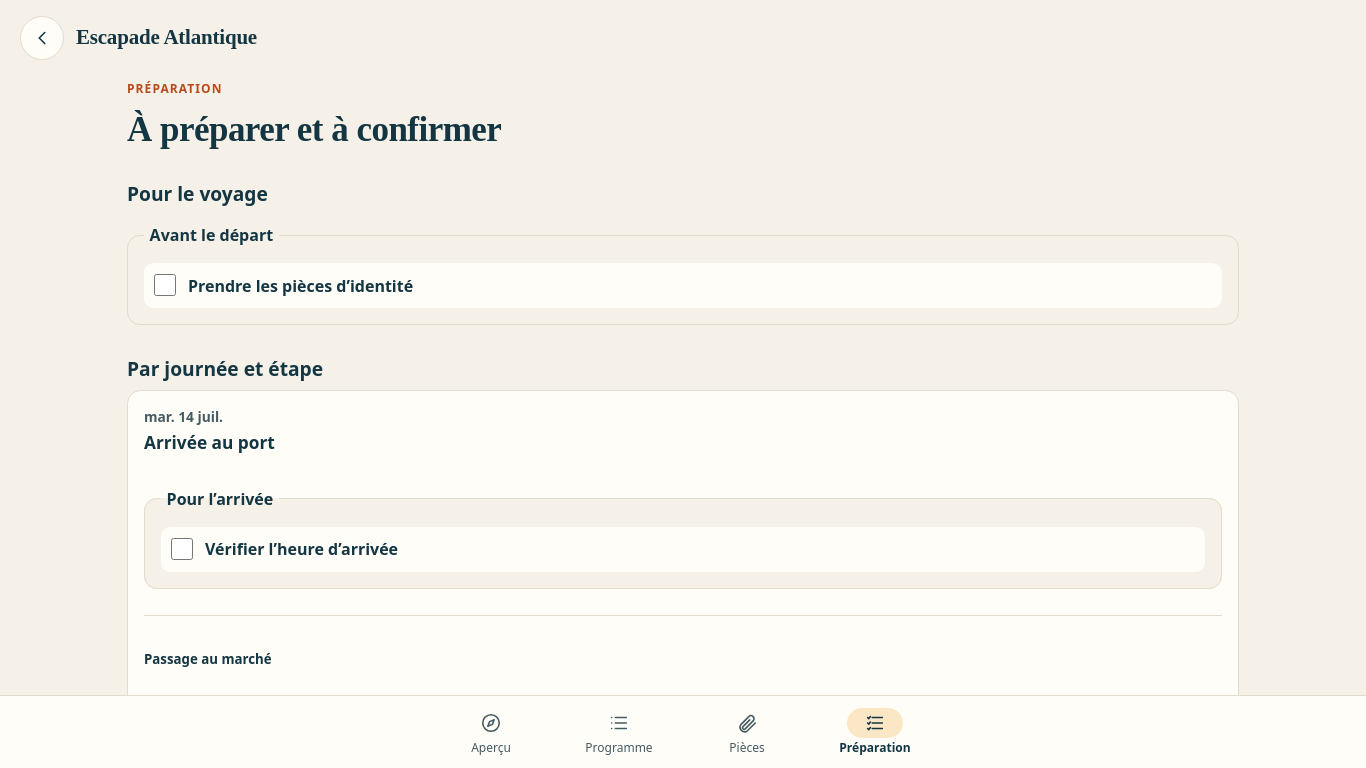
Test case: préparation et états personnels › persiste une case cochée et n’annonce la réussite qu’après l’écriture
Click the checkbox labelled "Prendre les pièces d’identité" at (165, 285), box [154,274,176,296]
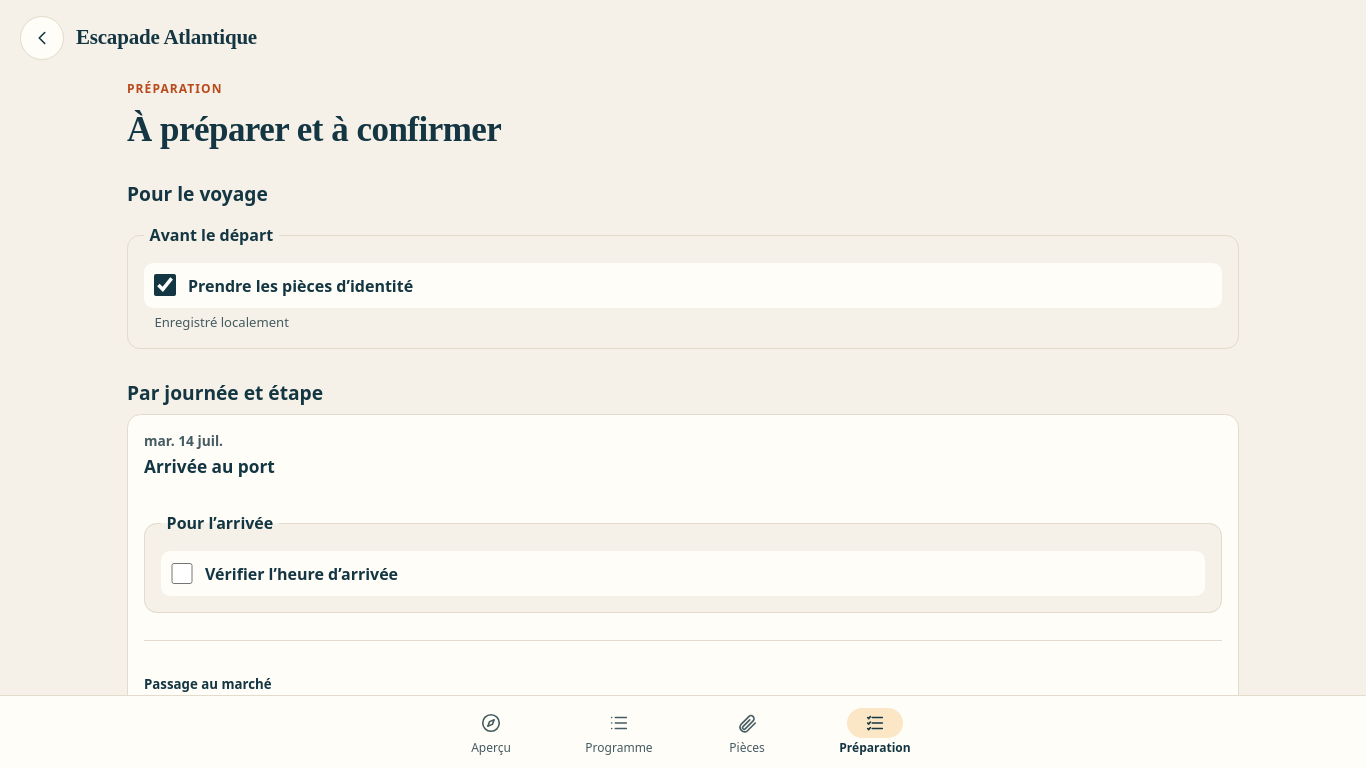
Expected: the text "Enregistré localement" is shown, [154,313,289,331]
